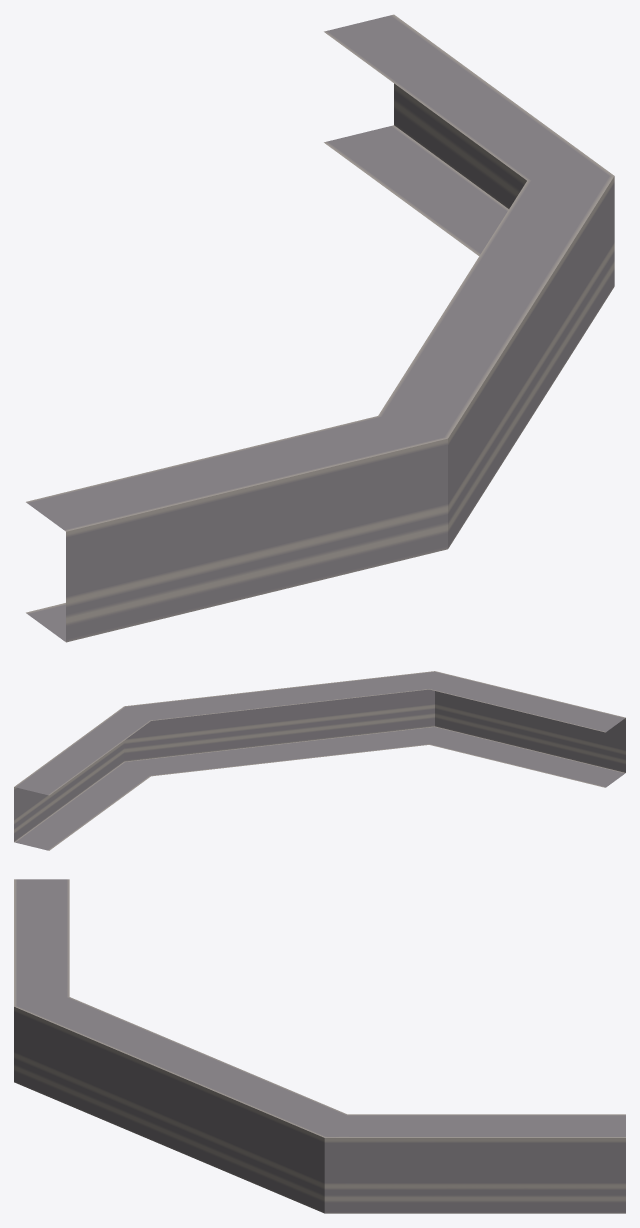
File: SM_ENV_K2_SLAB_CORNER_2X0_3_01.fbx
3 renders of one model, top to bottom at view 1: azimuth 30°, elevation 25°; view 2: azimuth 150°, elevation 25°; view 3: azimuth 270°, elevation 25°, orthographic. The views are drawn at different scales.
Visible parts, largest first — view 1: SM_ENV_K2_SLAB_CORNER_2X0.3_01; view 2: SM_ENV_K2_SLAB_CORNER_2X0.3_01; view 3: SM_ENV_K2_SLAB_CORNER_2X0.3_01.
Part boxes in pixels (box(x1,y1,x2,y2)): SM_ENV_K2_SLAB_CORNER_2X0.3_01: box(26, 14, 614, 642); SM_ENV_K2_SLAB_CORNER_2X0.3_01: box(14, 671, 625, 850); SM_ENV_K2_SLAB_CORNER_2X0.3_01: box(14, 879, 625, 1213).
Bounding box in the file's own units: 2.2 × 0.3 × 2.2.
